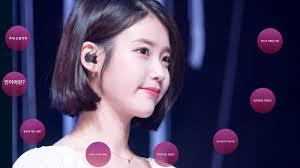earphone: (83, 51, 99, 66)
